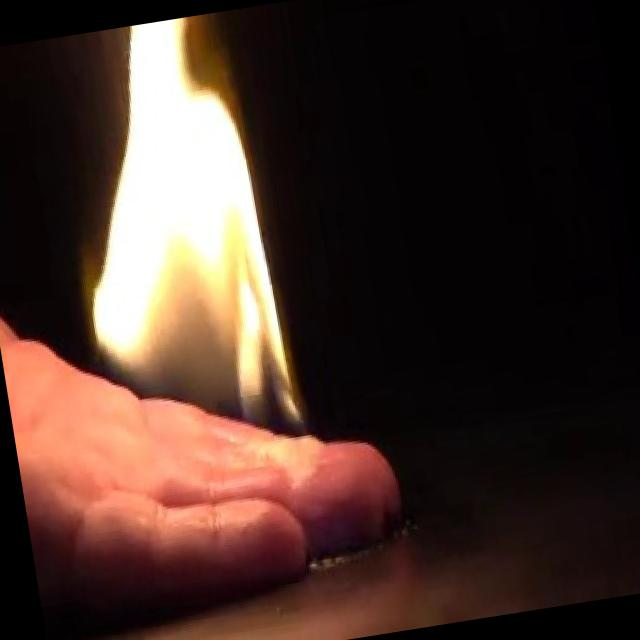Fire: (45, 8, 317, 476)
